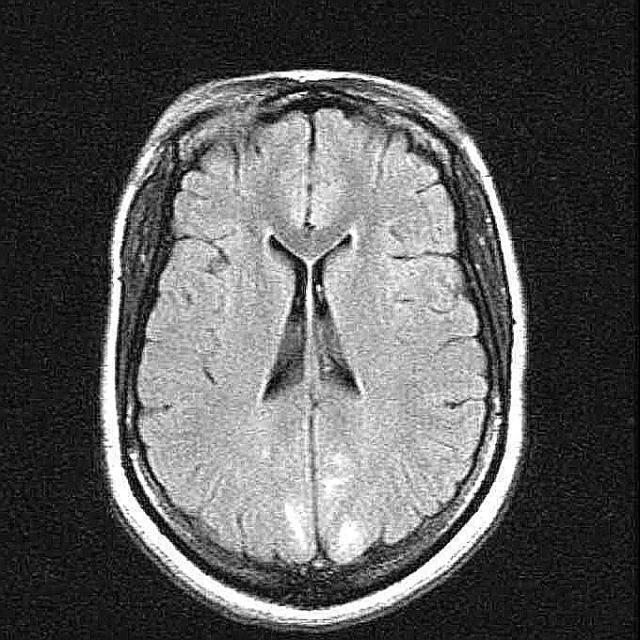No_Tumor: (101, 71, 526, 628)
